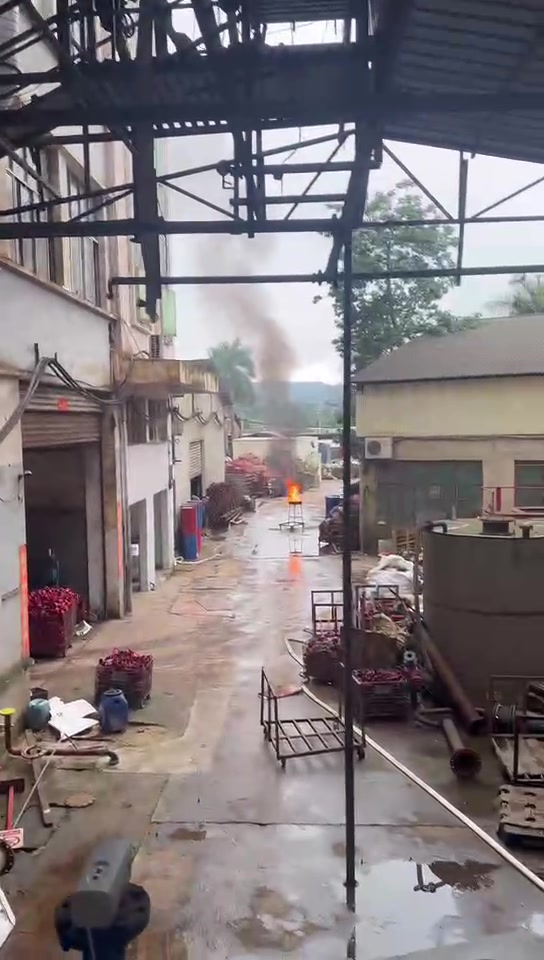fire: (286, 480, 301, 501)
